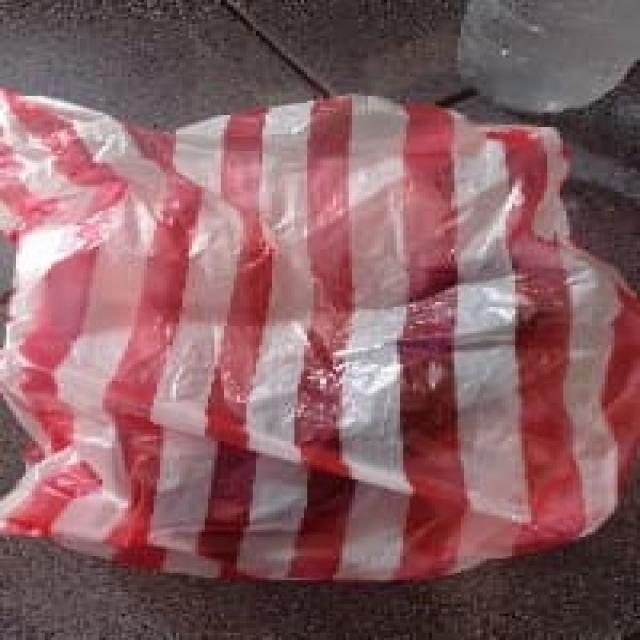Plastik: (3, 91, 637, 581), (461, 0, 637, 111)
